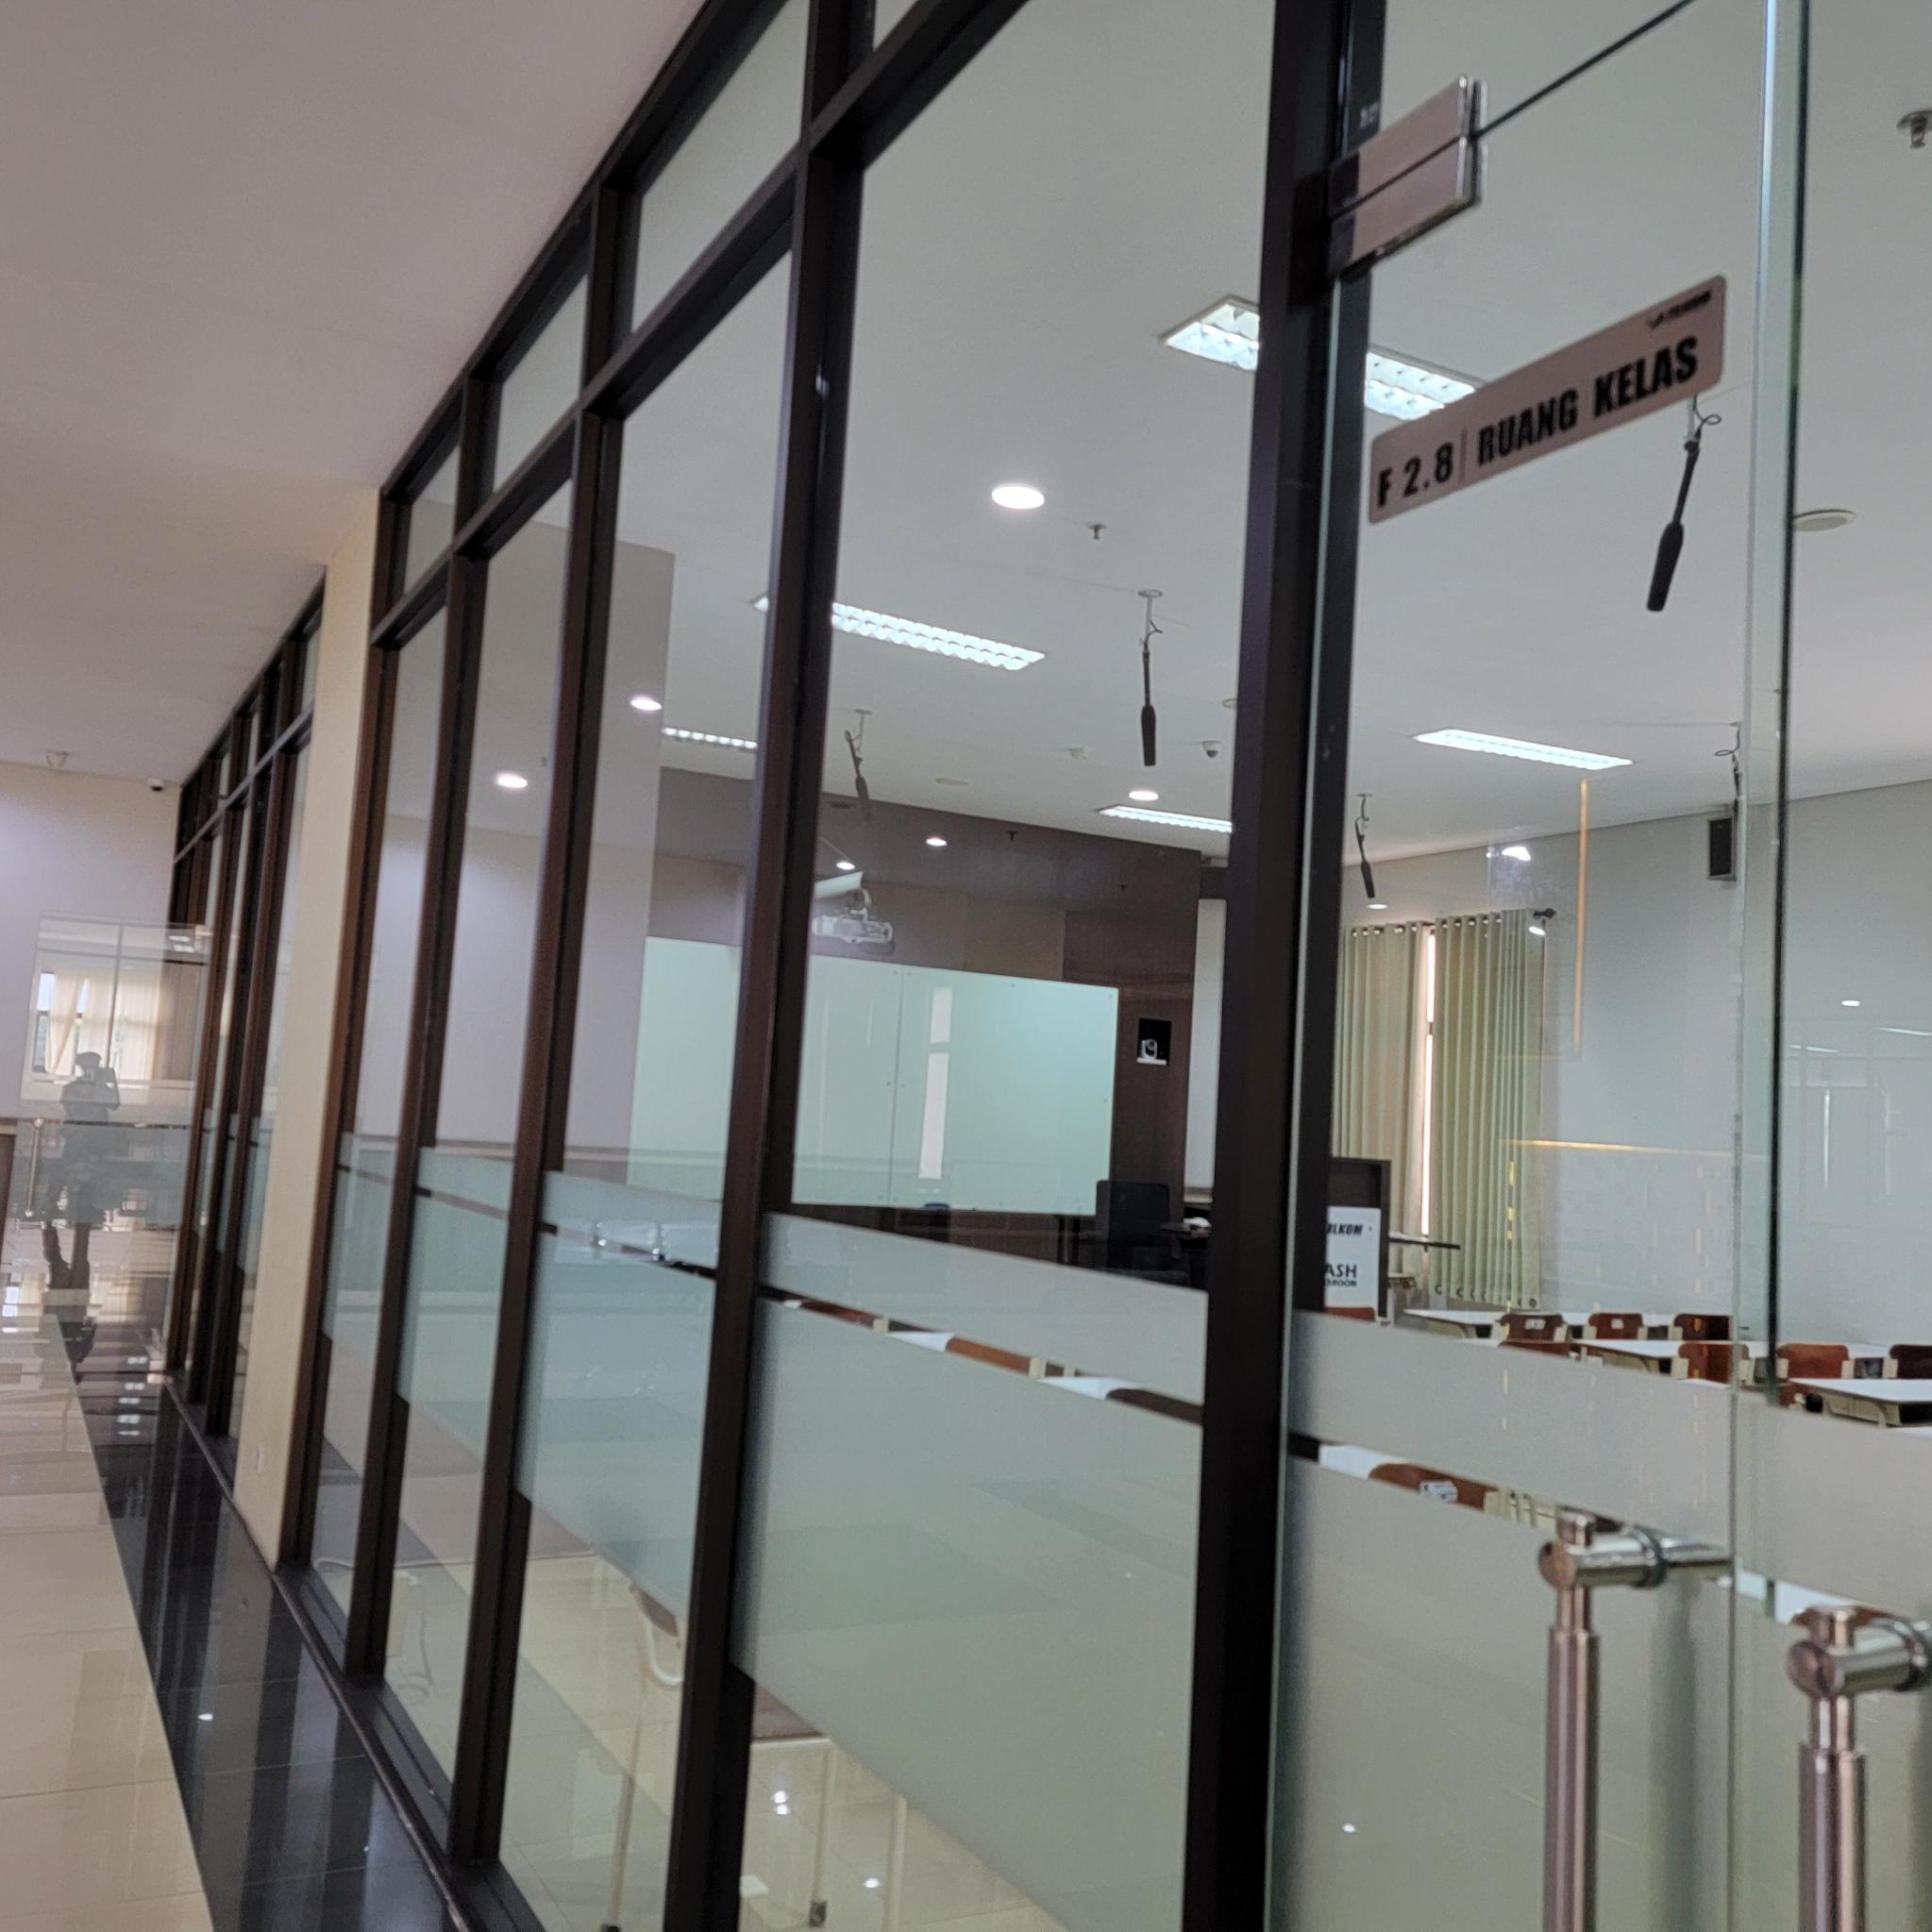plate: (1368, 271, 1729, 529)
